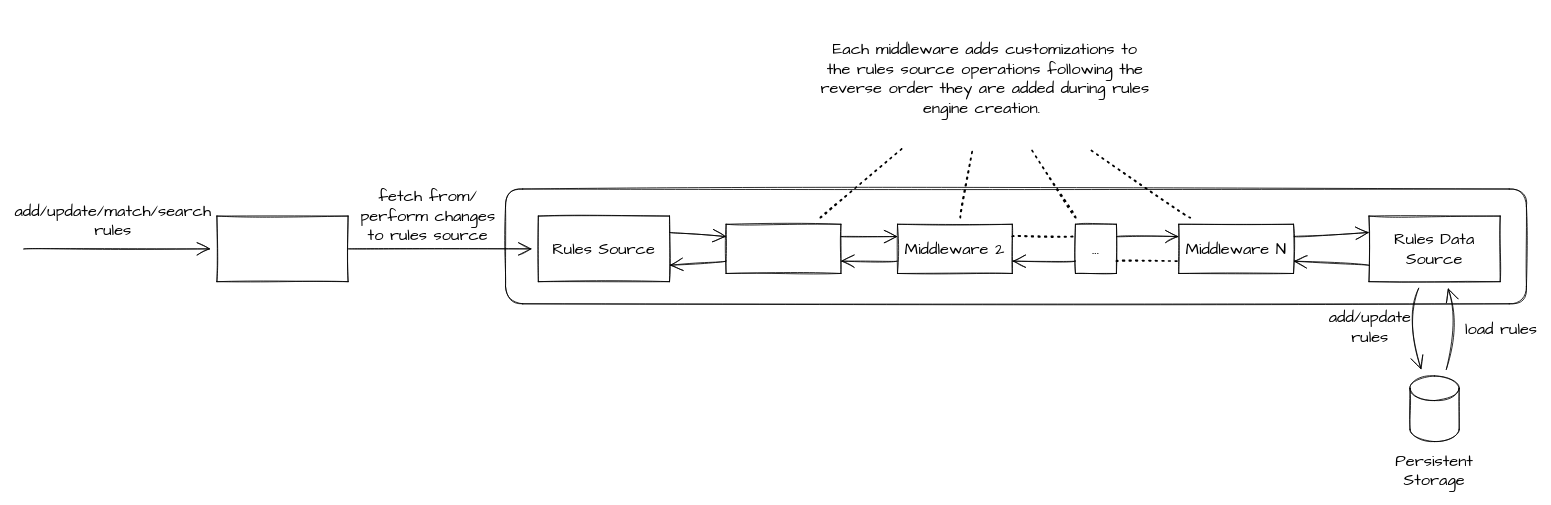
Image size: 1551x505. Some labels were removed from this diagram. The centre of each missing label's shape, as x and y in pixels:
"Middleware 1" goes at point 783,248.
"Rules Engine" goes at point 282,248.
